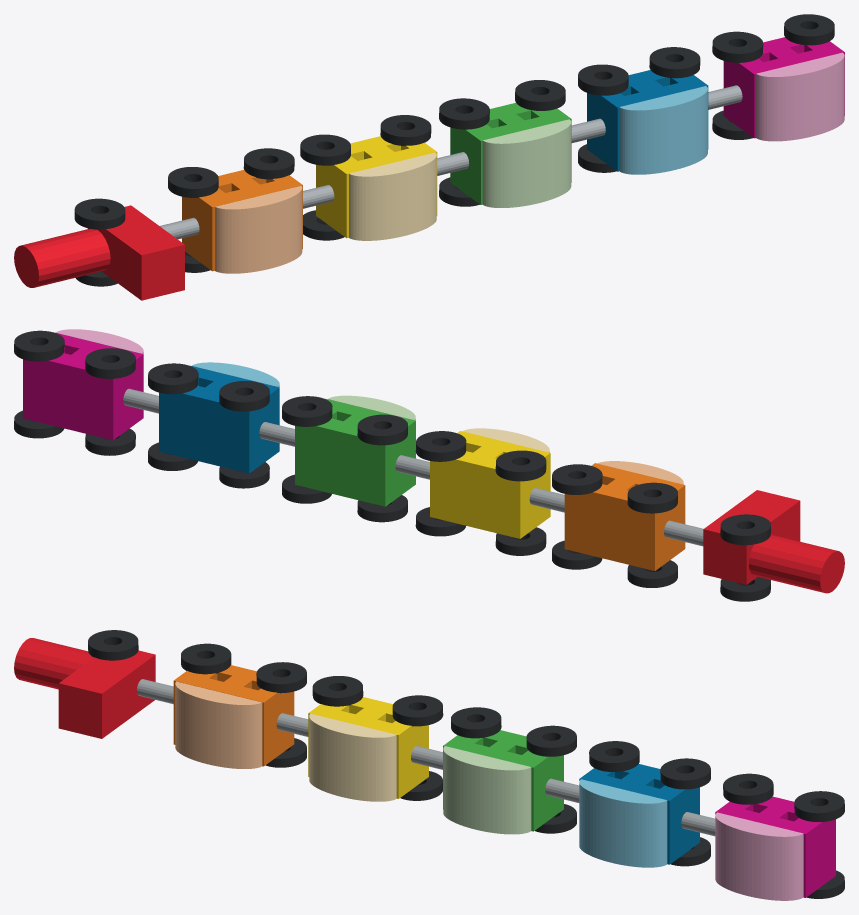
The model's file is tinker.obj.
3 renders of one model, top to bottom at view 1: azimuth 30°, elevation 25°; view 2: azimuth 150°, elevation 25°; view 3: azimuth 330°, elevation 25°, orthographic.
Visible parts, largest first — view 1: group_0_2829873, group_0_15277357, group_0_13165757, group_0_15708628, group_0_8768998, group_0_16311991, group_0_16500122, group_0_16768282, group_0_4634441, group_0_30377, group_0_16089887, group_0_14093196 (+1 smaller); view 2: group_0_2829873, group_0_4634441, group_0_15277357, group_0_16768282, group_0_30377, group_0_16089887, group_0_14093196, group_0_10988977, group_0_13165757, group_0_8768998, group_0_15708628, group_0_16311991 (+1 smaller); view 3: group_0_2829873, group_0_15277357, group_0_8768998, group_0_15708628, group_0_13165757, group_0_16311991, group_0_16500122, group_0_14093196, group_0_16089887, group_0_16768282, group_0_4634441, group_0_30377 (+1 smaller).
Part boxes in pixels (x1,y1,x2,y2): group_0_2829873: (74,14,834,286); group_0_15277357: (14,205,184,300); group_0_13165757: (482,119,571,207); group_0_15708628: (756,52,844,141); group_0_8768998: (619,86,707,174); group_0_16311991: (349,152,436,240); group_0_16500122: (215,186,302,273); group_0_16768282: (316,136,437,238); group_0_4634441: (450,103,571,204); group_0_30377: (587,70,708,171); group_0_16089887: (182,170,302,271); group_0_14093196: (723,37,844,138); group_0_2829873: (14,330,770,601); group_0_4634441: (295,398,415,506); group_0_15277357: (703,490,844,593); group_0_16768282: (430,431,550,538); group_0_30377: (159,365,279,473); group_0_16089887: (564,463,685,570); group_0_14093196: (23,333,143,440); group_0_10988977: (123,388,703,546); group_0_13165757: (328,395,415,420); group_0_8768998: (192,362,279,387); group_0_15708628: (55,329,143,354); group_0_16311991: (462,428,549,452); group_0_2829873: (88,630,844,898); group_0_15277357: (14,638,155,738); group_0_8768998: (579,779,667,867); group_0_15708628: (715,812,803,900); group_0_13165757: (443,746,531,834); group_0_16311991: (309,713,396,801); group_0_16500122: (175,681,262,768); group_0_14093196: (715,796,835,897); group_0_16089887: (173,665,294,766); group_0_16768282: (308,697,428,798); group_0_4634441: (443,730,563,831); group_0_30377: (579,764,699,864).
Size of the model in its own units: 374 by 38.17 by 49.
